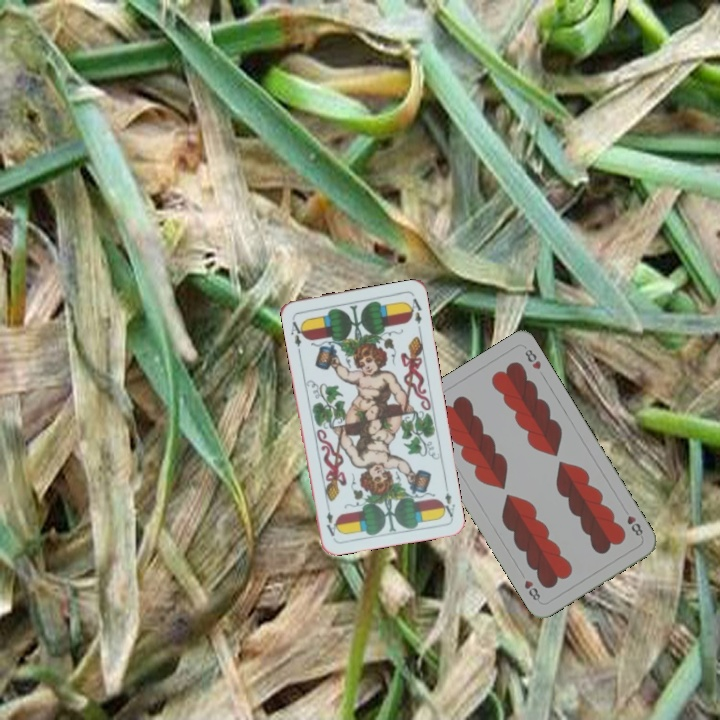EA: (437, 480, 458, 520), (287, 314, 308, 349)
H8: (619, 504, 646, 538)
